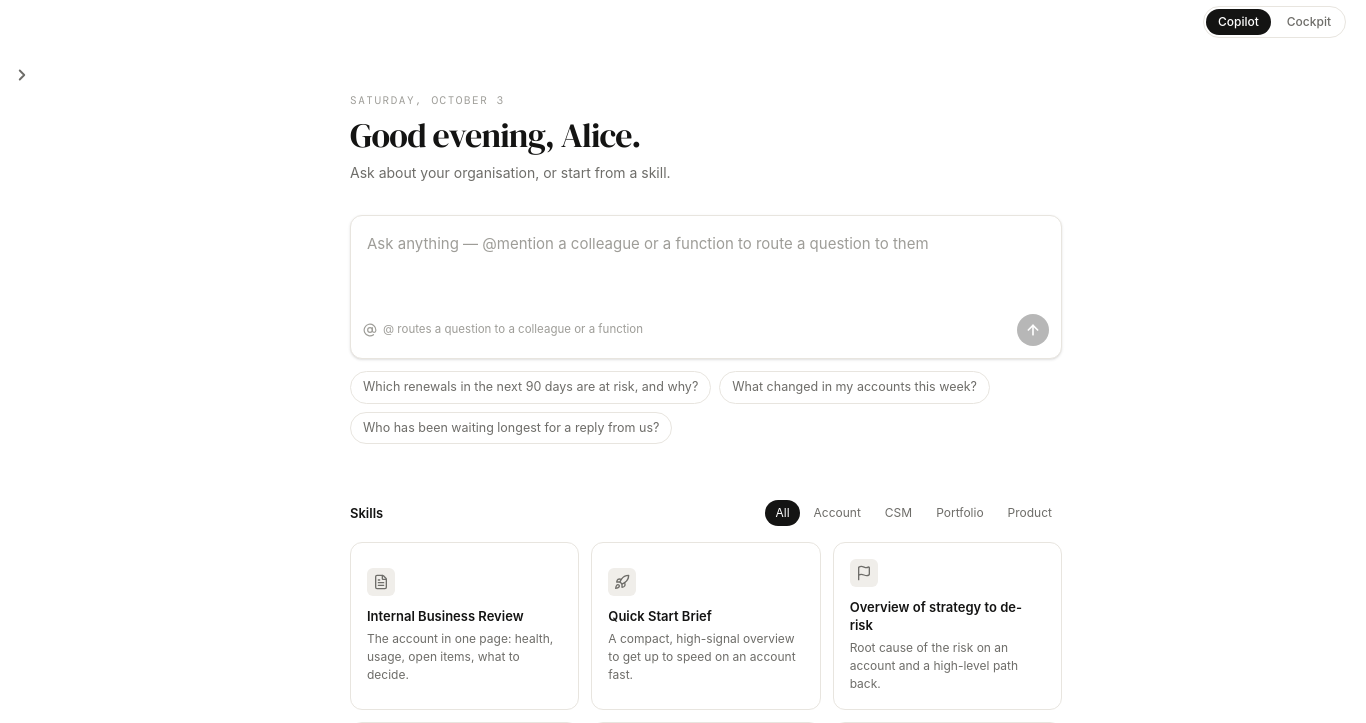
Test: Copilot (/copilot) › loads real conversation history on mount and renders it in the sidebar
Step 1. Click the button named "Expand sidebar" → (23, 74), box [11,60,35,88]
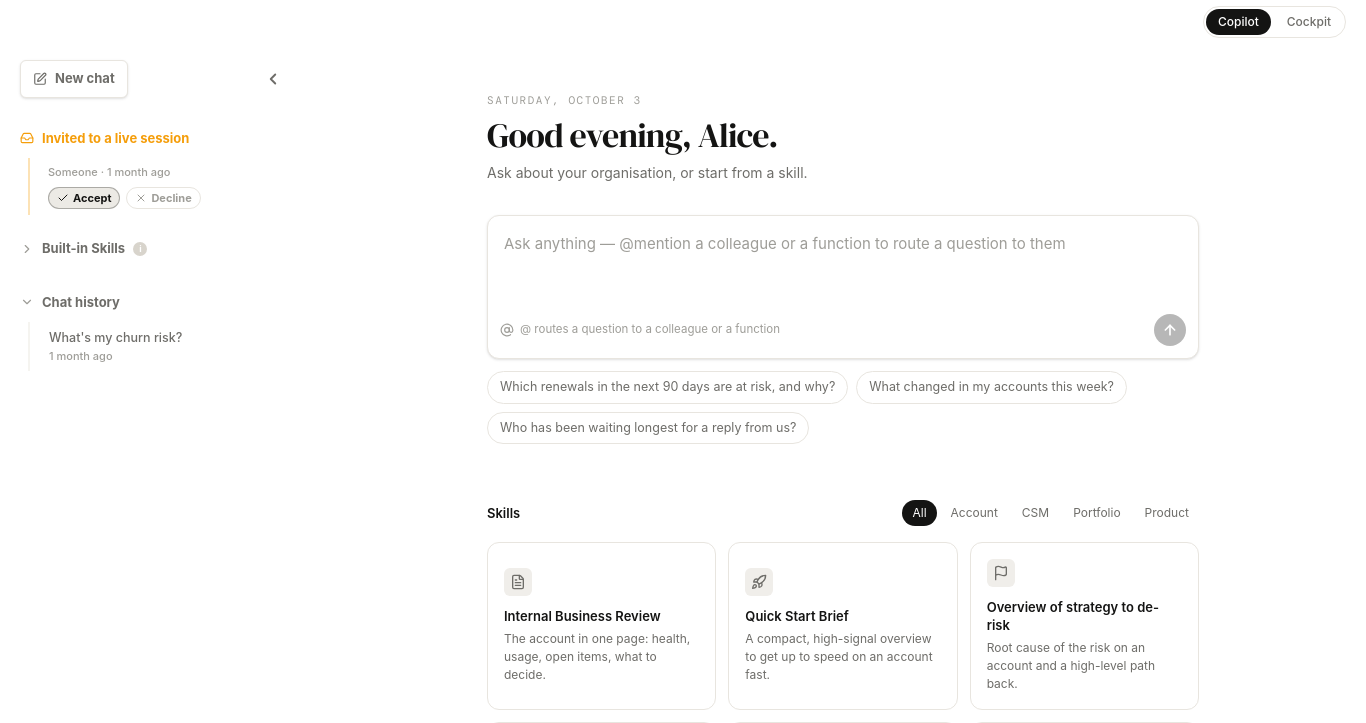
Expected: the text "What's my churn risk?" is shown, [49,330,182,345]
